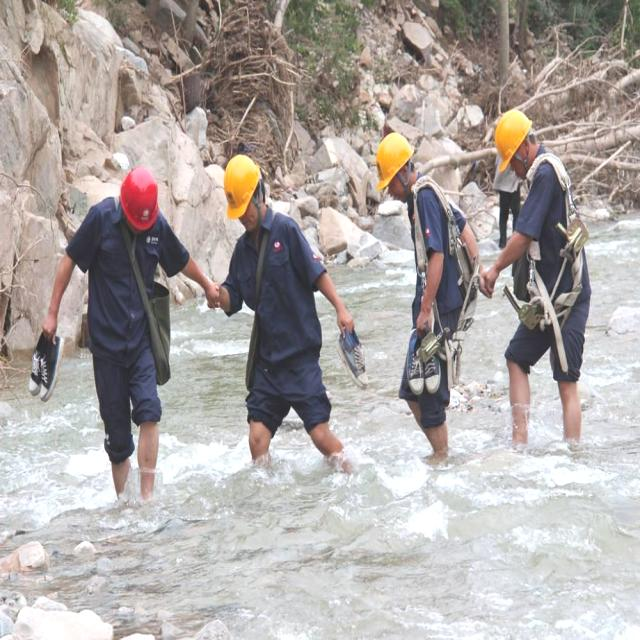hand_noglove: (39, 304, 61, 346), (204, 275, 223, 316), (474, 270, 498, 300), (333, 306, 355, 338), (412, 305, 434, 336)
head_helmet: (486, 101, 536, 170), (216, 150, 264, 217), (115, 160, 161, 228), (367, 131, 419, 189)
person: (481, 100, 604, 448), (223, 160, 349, 467), (376, 141, 478, 474), (79, 163, 180, 490)
